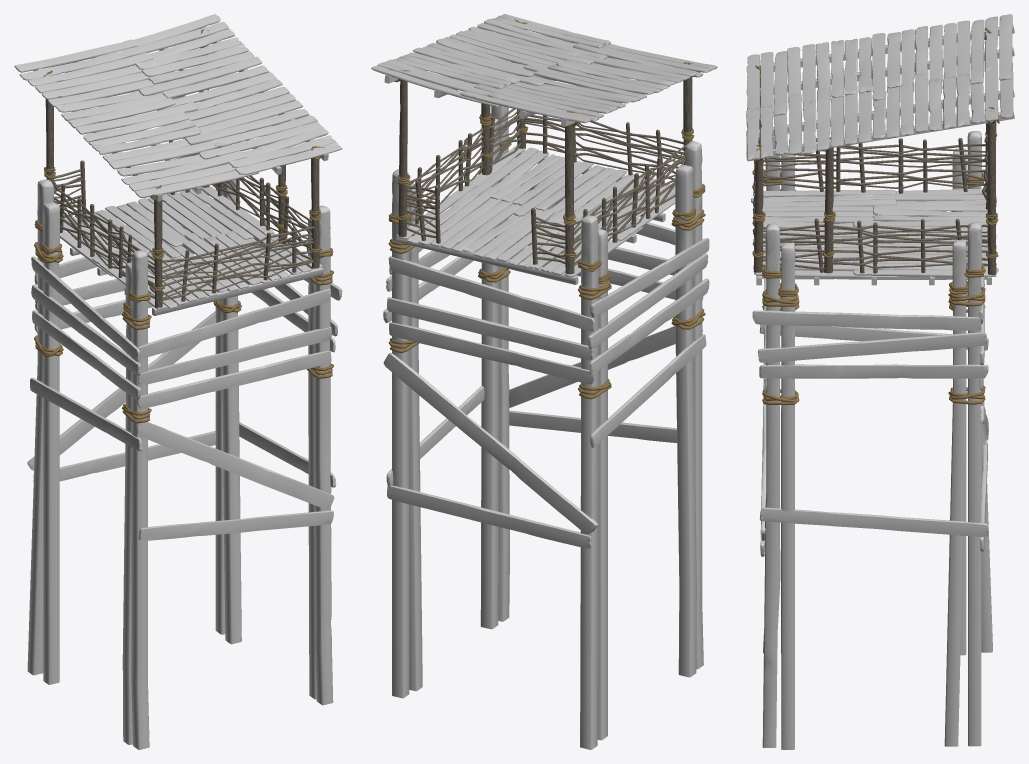
Rendered from SM_LookoutTower_01.fbx.
The picture shows the model from 3 angles, left to right: view 1: azimuth 30°, elevation 25°; view 2: azimuth 150°, elevation 25°; view 3: azimuth 270°, elevation 25°; orthographic projection. The views are drawn at different scales.
Parts seen in each view (by area): view 1: SM_LookoutTower_01_LOD0; view 2: SM_LookoutTower_01_LOD0; view 3: SM_LookoutTower_01_LOD0.
Boxes of the visible parts, <box> form: SM_LookoutTower_01_LOD0: <box>14,14,342,749</box>; SM_LookoutTower_01_LOD0: <box>371,14,717,749</box>; SM_LookoutTower_01_LOD0: <box>746,14,1014,749</box>.
Size of the model in its own units: 544 by 578 by 1509.
